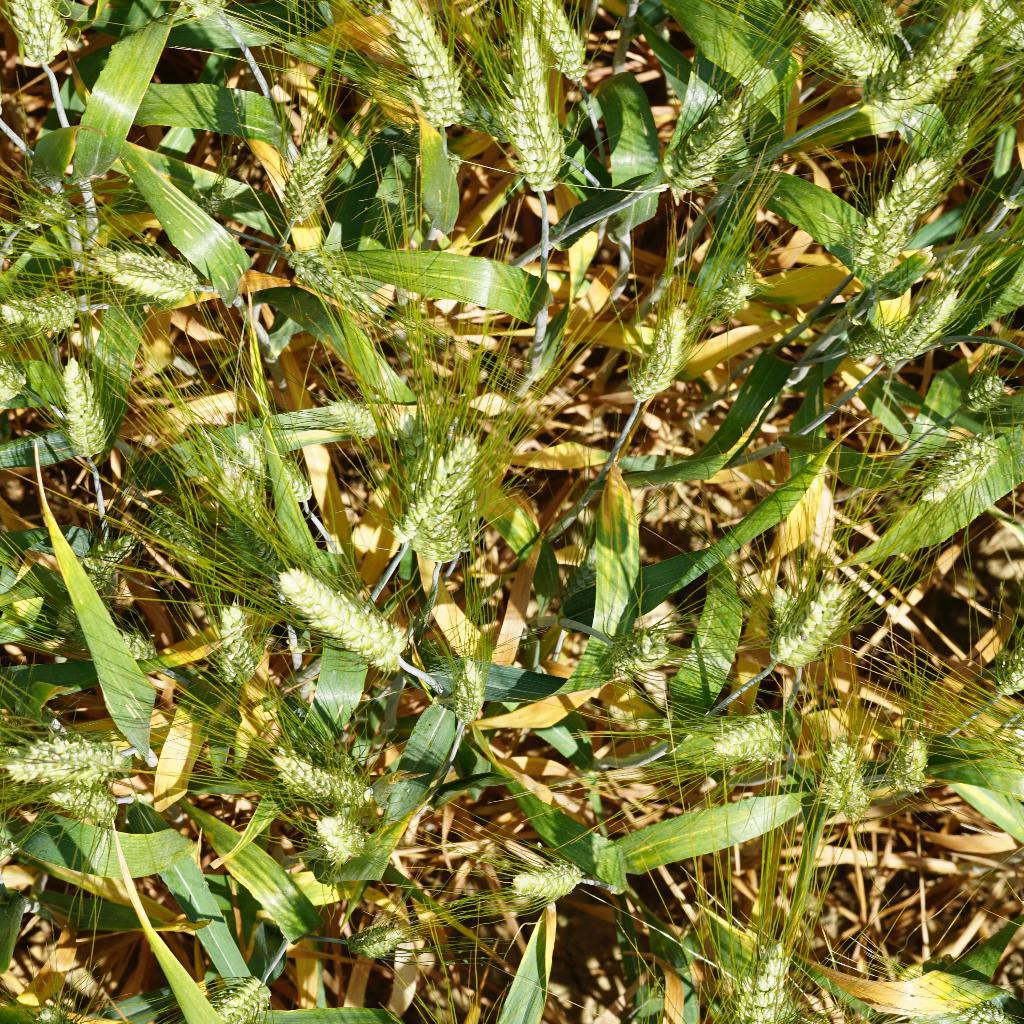0-0: (266, 549, 426, 680), (647, 72, 765, 217), (496, 10, 576, 208), (393, 421, 496, 561), (258, 225, 387, 328), (545, 496, 650, 621), (848, 156, 948, 287), (381, 0, 473, 142), (191, 451, 286, 588), (757, 546, 852, 677), (411, 436, 504, 565), (384, 413, 457, 576), (75, 227, 210, 311), (897, 0, 987, 119), (792, 0, 911, 88), (668, 702, 795, 784), (253, 729, 377, 811), (907, 417, 1004, 515), (0, 725, 168, 781), (51, 354, 124, 467), (881, 279, 963, 378), (512, 0, 601, 89), (273, 122, 343, 231), (621, 279, 680, 408), (224, 417, 311, 504), (822, 725, 884, 844), (725, 933, 804, 1024), (178, 956, 283, 1024), (299, 374, 395, 445), (135, 489, 208, 573), (49, 609, 161, 663), (1, 0, 75, 81), (881, 709, 944, 804), (206, 595, 271, 687), (497, 852, 586, 914), (301, 799, 381, 867), (595, 618, 678, 683), (0, 282, 91, 340), (51, 773, 142, 829), (58, 526, 129, 595), (337, 905, 425, 959), (701, 257, 765, 329), (446, 641, 490, 736), (913, 986, 1020, 1024), (12, 183, 77, 239), (965, 0, 1024, 51), (188, 171, 233, 228), (961, 361, 1005, 414), (991, 628, 1024, 697)
